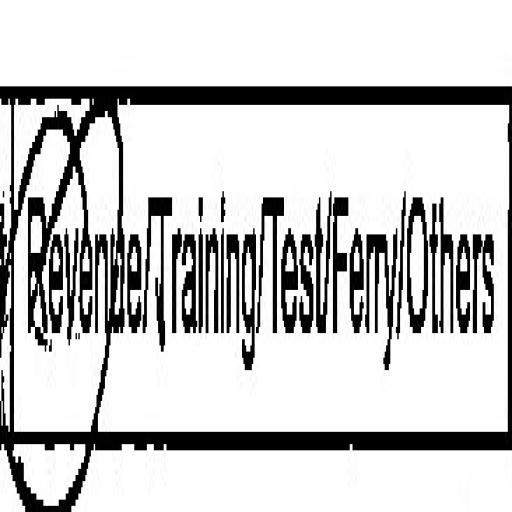check: (11, 0, 143, 512)
